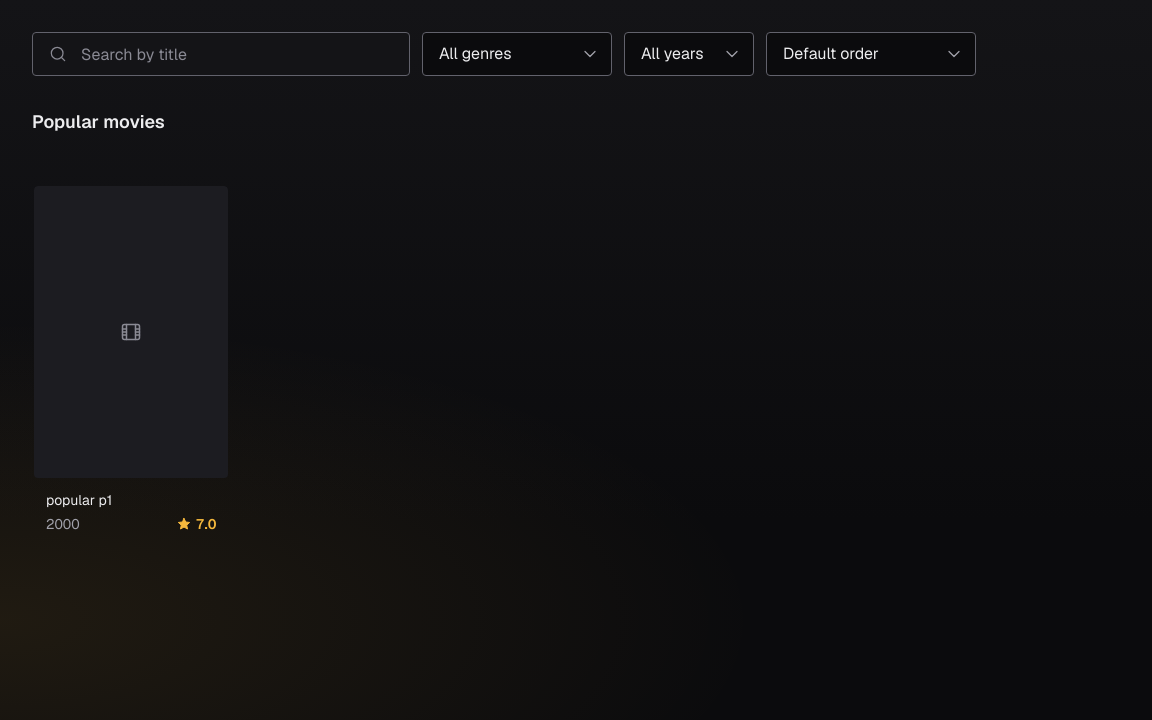
ExplorerClient — results heading (RF-21) › follows the filters as they change
Check: the heading "popular p1" is shown, box [46,491,112,509]
Select "Drama" in the 1st dropdown named "Genre". click: (517, 54)
box: [422,32,612,76]
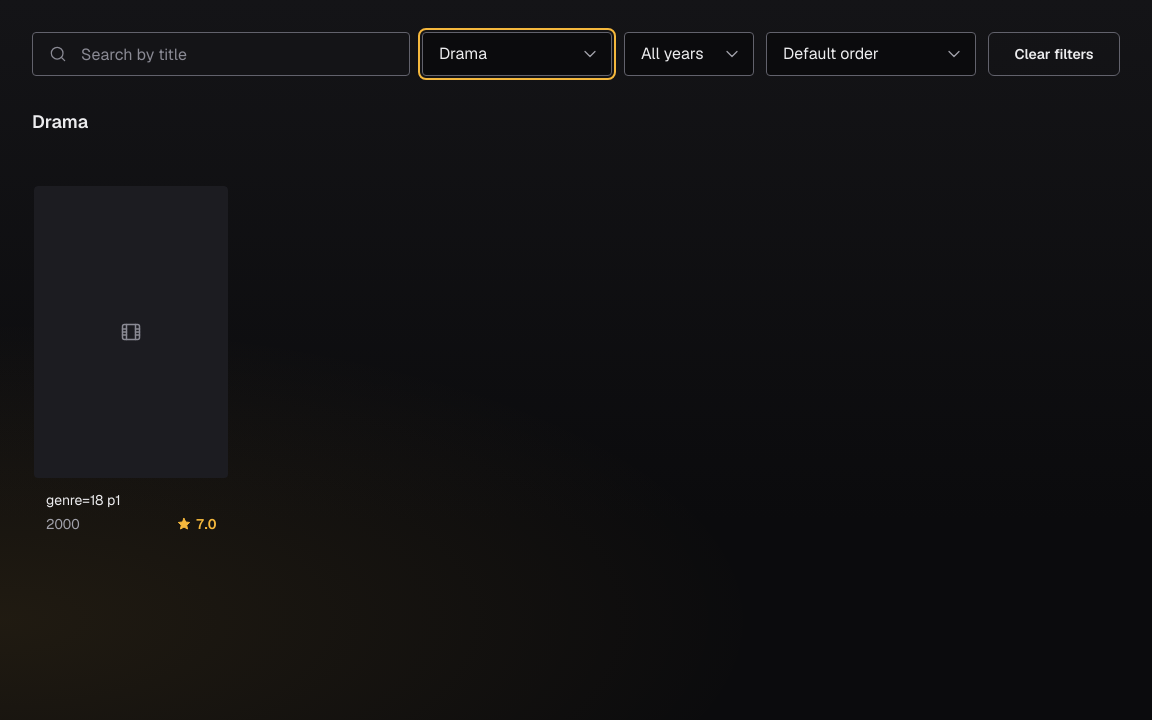
Check: the heading "Drama" is shown, box [32,110,88,133]
Click the button "Clear filters". click: (1054, 54)
box: [988,32,1120,76]
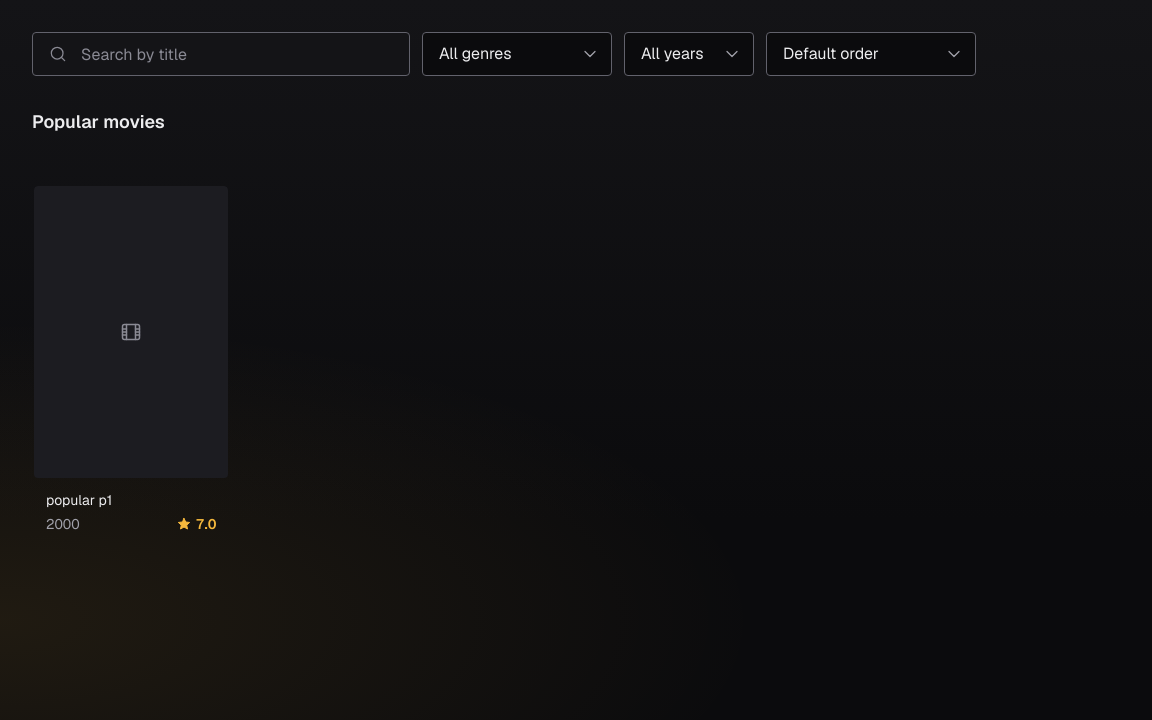
Check: the heading "Popular movies" is shown, box [32,110,165,133]
